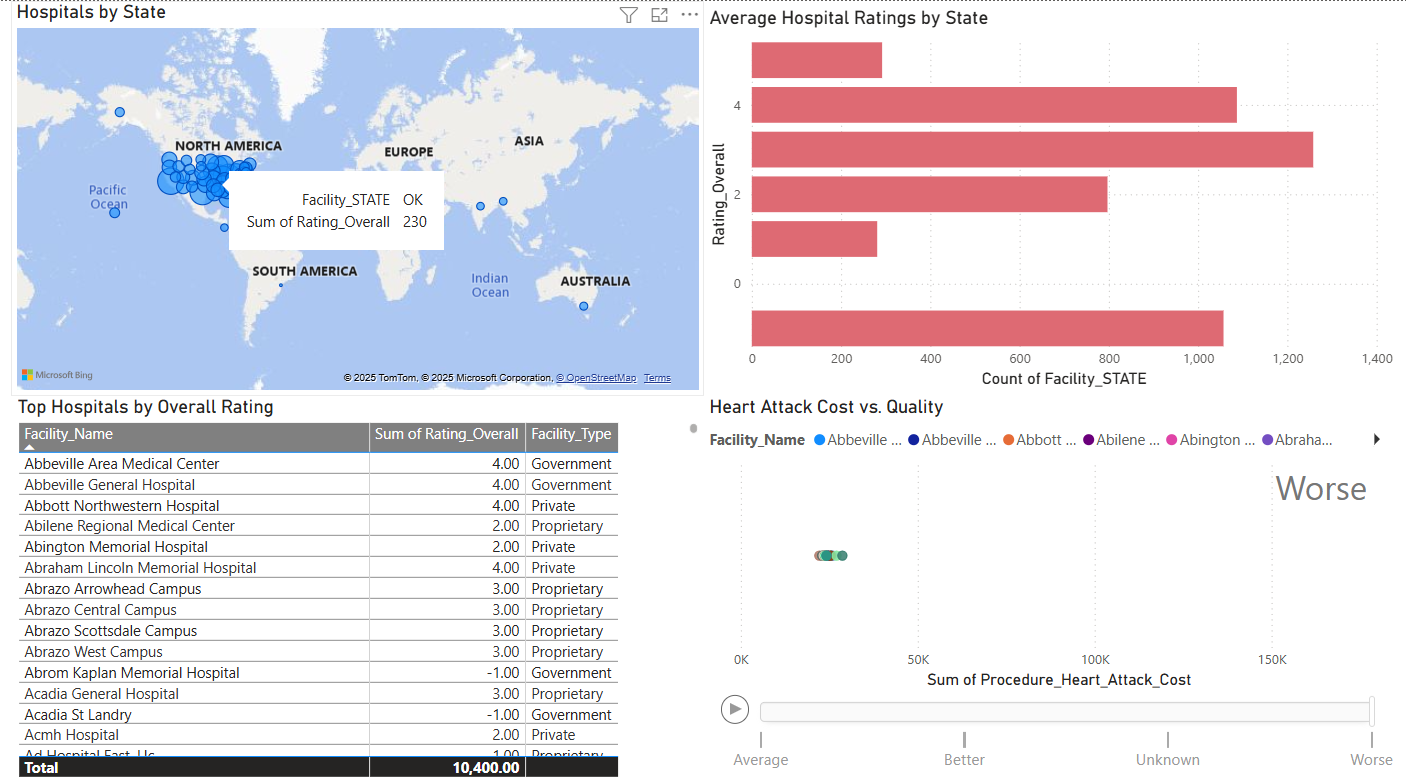

The page's visual inventory and layout, read from the dashboard file:
{"tool":"powerbi","page":{"name":"Page 1","canvas":[1280,720],"ordinal":0},"visuals":[{"type":"map","title":"Hospitals by State","fields":{"Category":["hospitals.Facility_STATE"],"Size":["Sum(hospitals.Rating_Overall)"]},"box":[0,313.3,651.1,406.7],"z":0},{"type":"clusteredBarChart","title":"Average Hospital Ratings by State","fields":{"Y":["CountNonNull(hospitals.Facility_STATE)"],"Category":["hospitals.Rating_Overall"]},"box":[651.1,0,628.9,382.2],"z":1},{"type":"scatterChart","title":"Heart Attack Cost vs. Quality","fields":{"X":["Sum(hospitals.Procedure_Heart_Attack_Cost)"],"Series":["hospitals.Facility_Name"],"Play":["hospitals.Procedure_Heart_Attack_Quality"]},"box":[0,0,651.1,313.3],"z":2},{"type":"tableEx","title":"Top Hospitals by Overall Rating","fields":{"Values":["hospitals.Facility_Name","Sum(hospitals.Rating_Overall)","hospitals.Facility_Type"]},"box":[651.1,382.2,628.9,337.8],"z":3}]}

Visuals, with their boxes in screenshot pixels (x1, y1, x2, y2), scaled from the page's 1280x720 canvas onto the 1406x780 screenshot:
"Hospitals by State" map: <box>0,339,715,779</box>
"Average Hospital Ratings by State" clusteredBarChart: <box>715,0,1405,414</box>
"Heart Attack Cost vs. Quality" scatterChart: <box>0,0,715,339</box>
"Top Hospitals by Overall Rating" tableEx: <box>715,414,1405,779</box>
